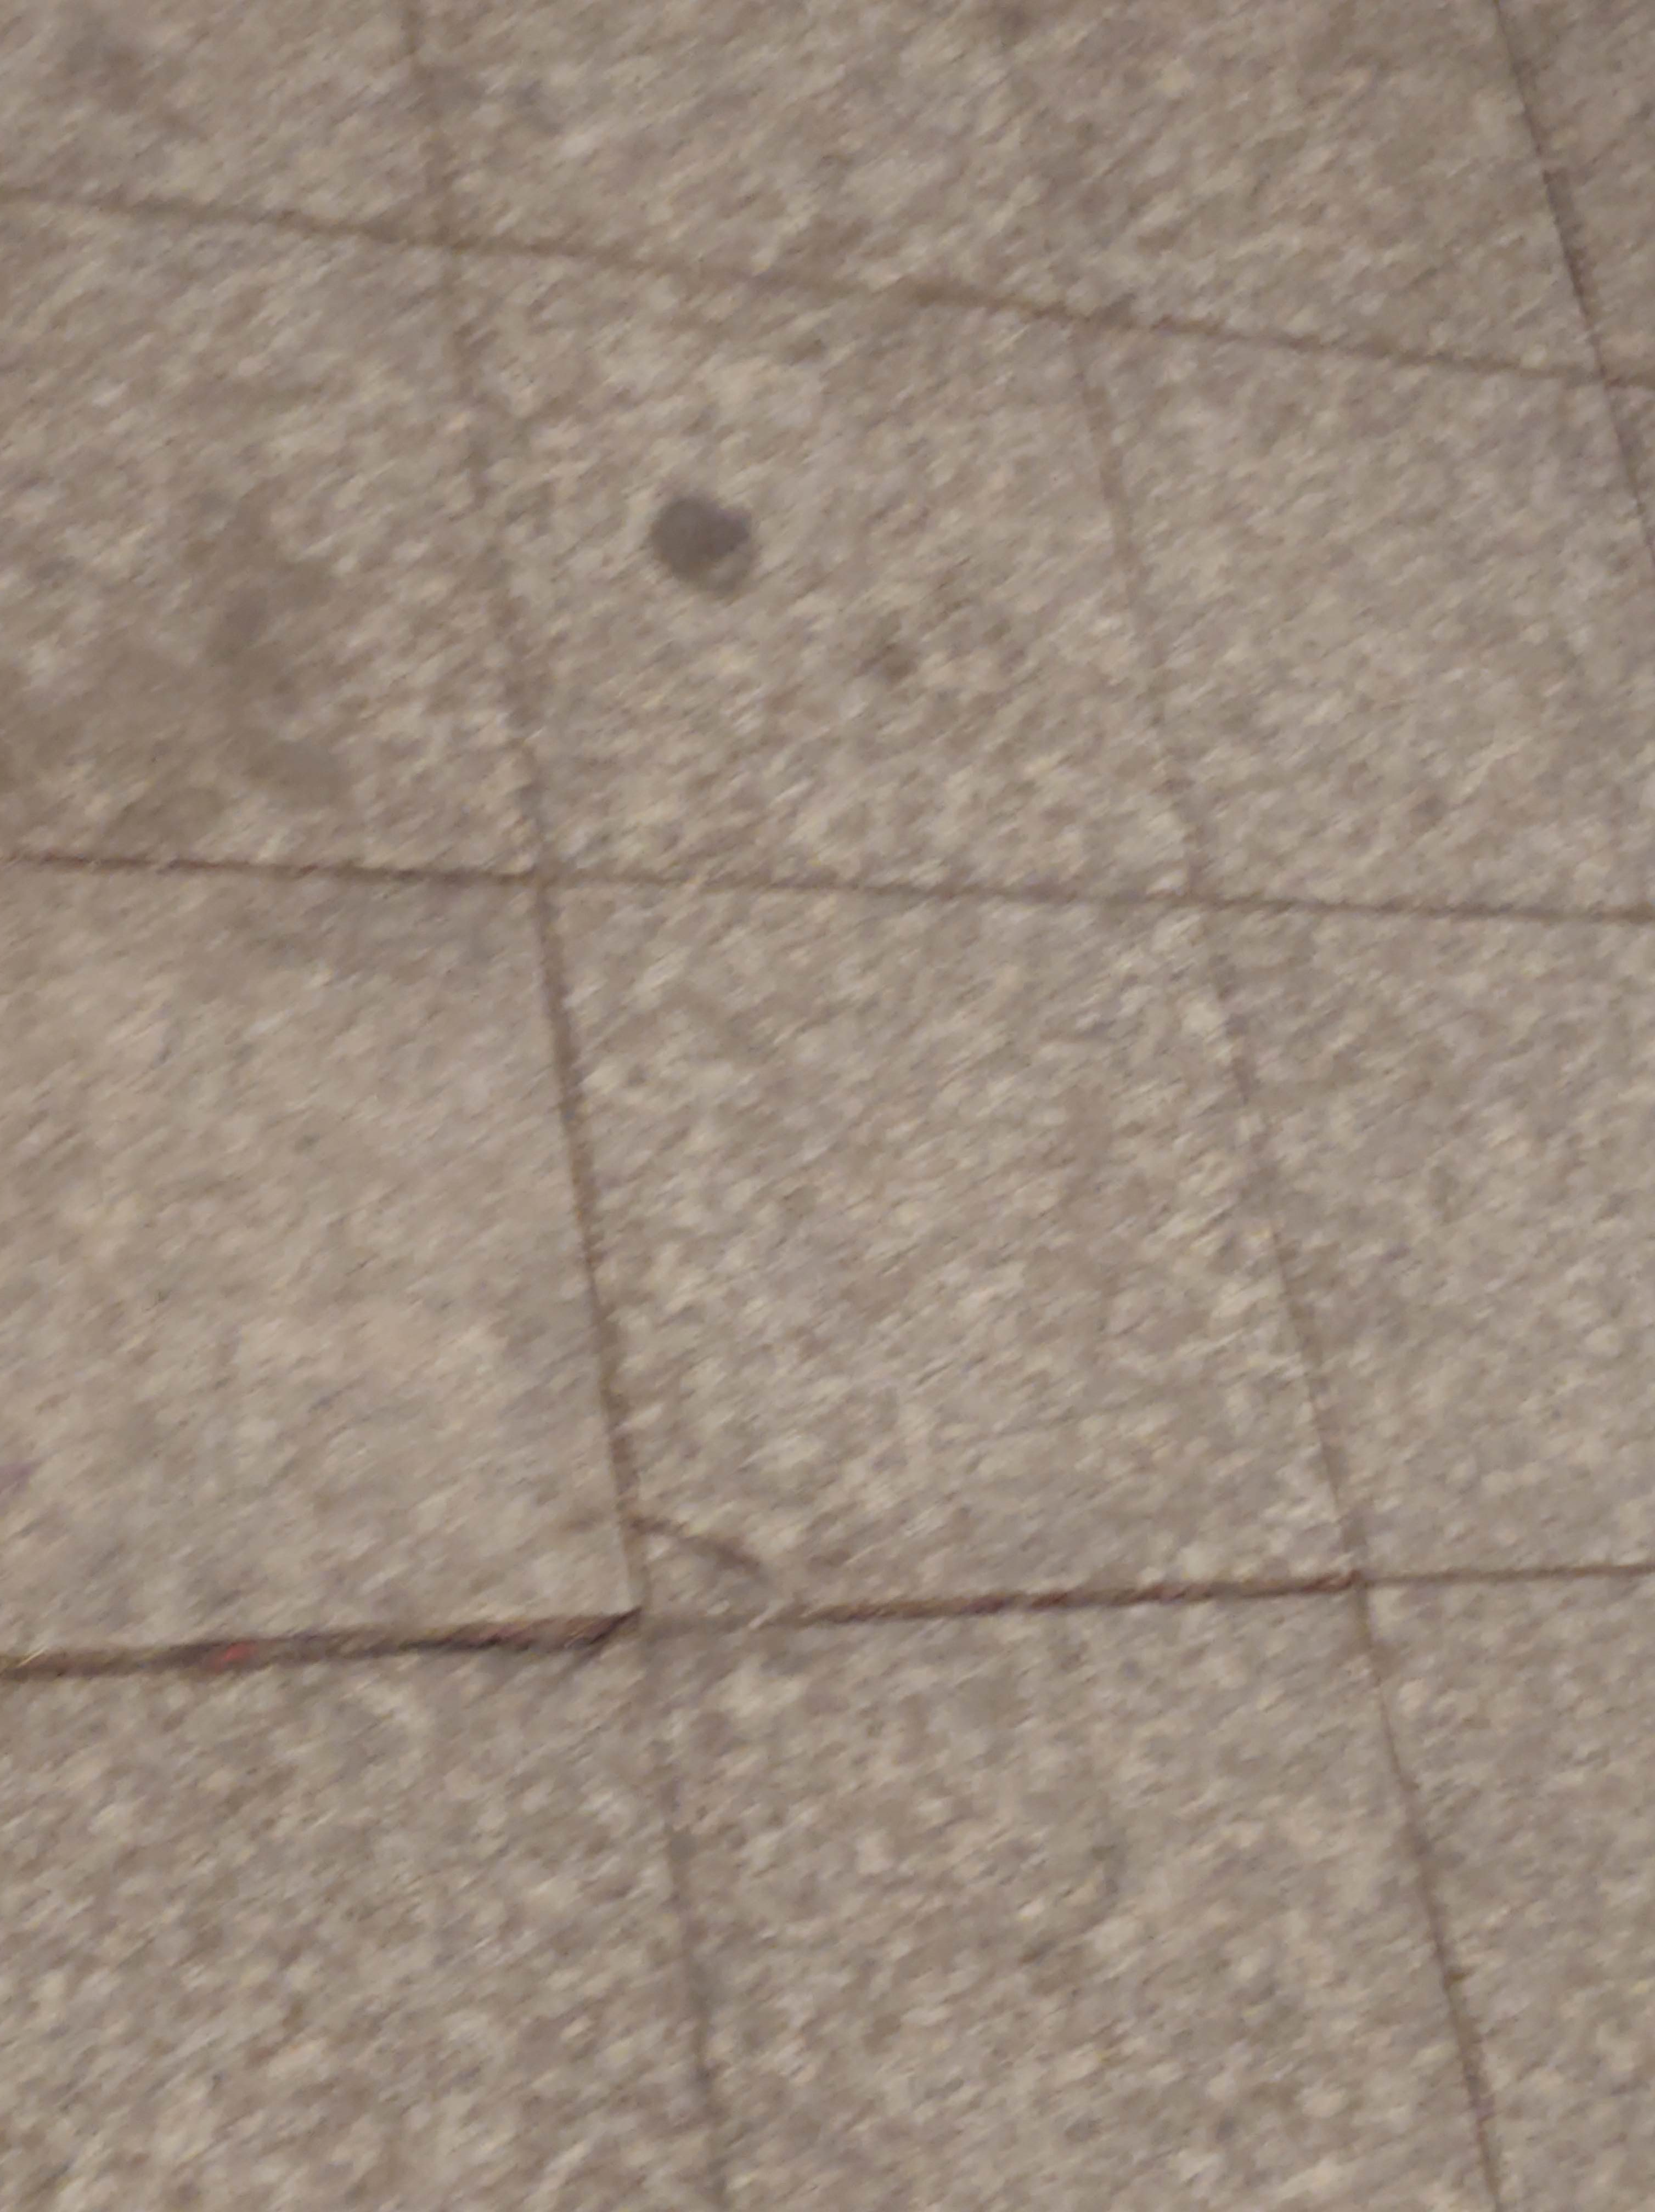grey spot: (641, 490, 761, 591)
